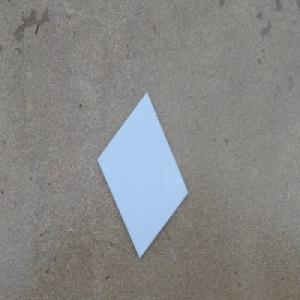PaintChip: (95, 87, 189, 261)
